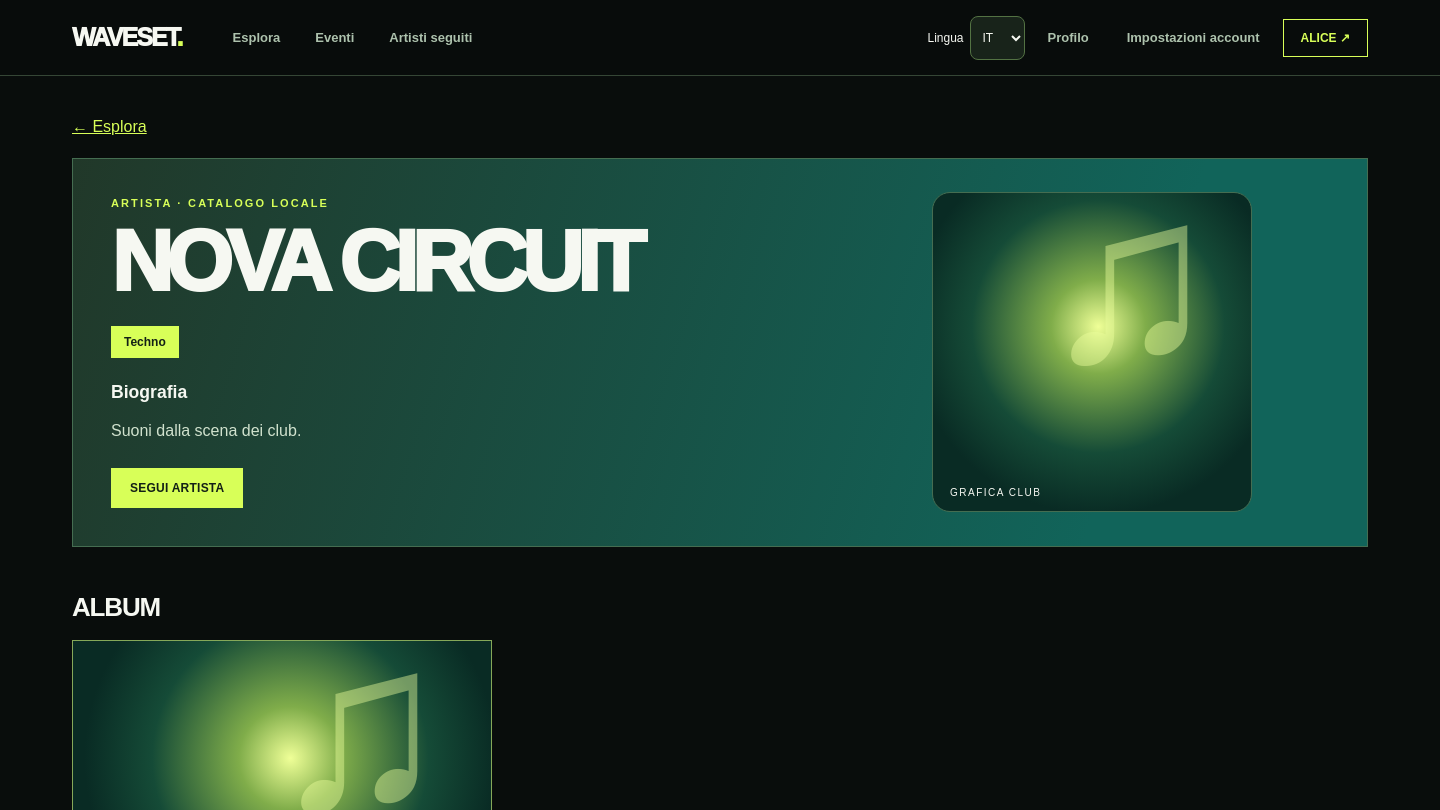
Scenario: errore 403: stato conservato e messaggio controllato IT/EN
Click the button "Segui artista" at (177, 488), box [111,468,244,508]
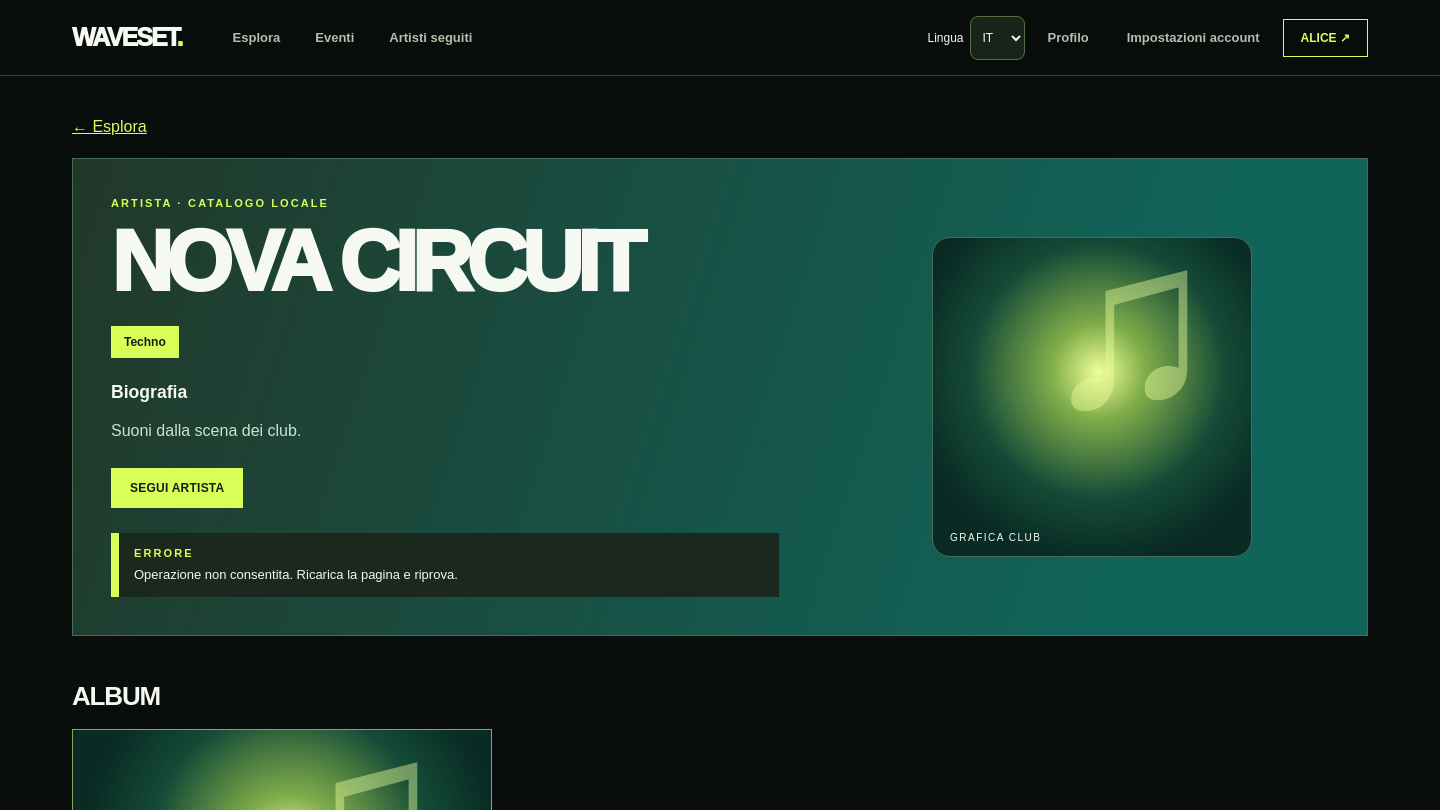
Expected: the message does not show "SQL dettagli interni", [111,533,779,597]
Select "EN" in the dropdown labelled "Lingua" at (997, 38), box [970,16,1024,60]
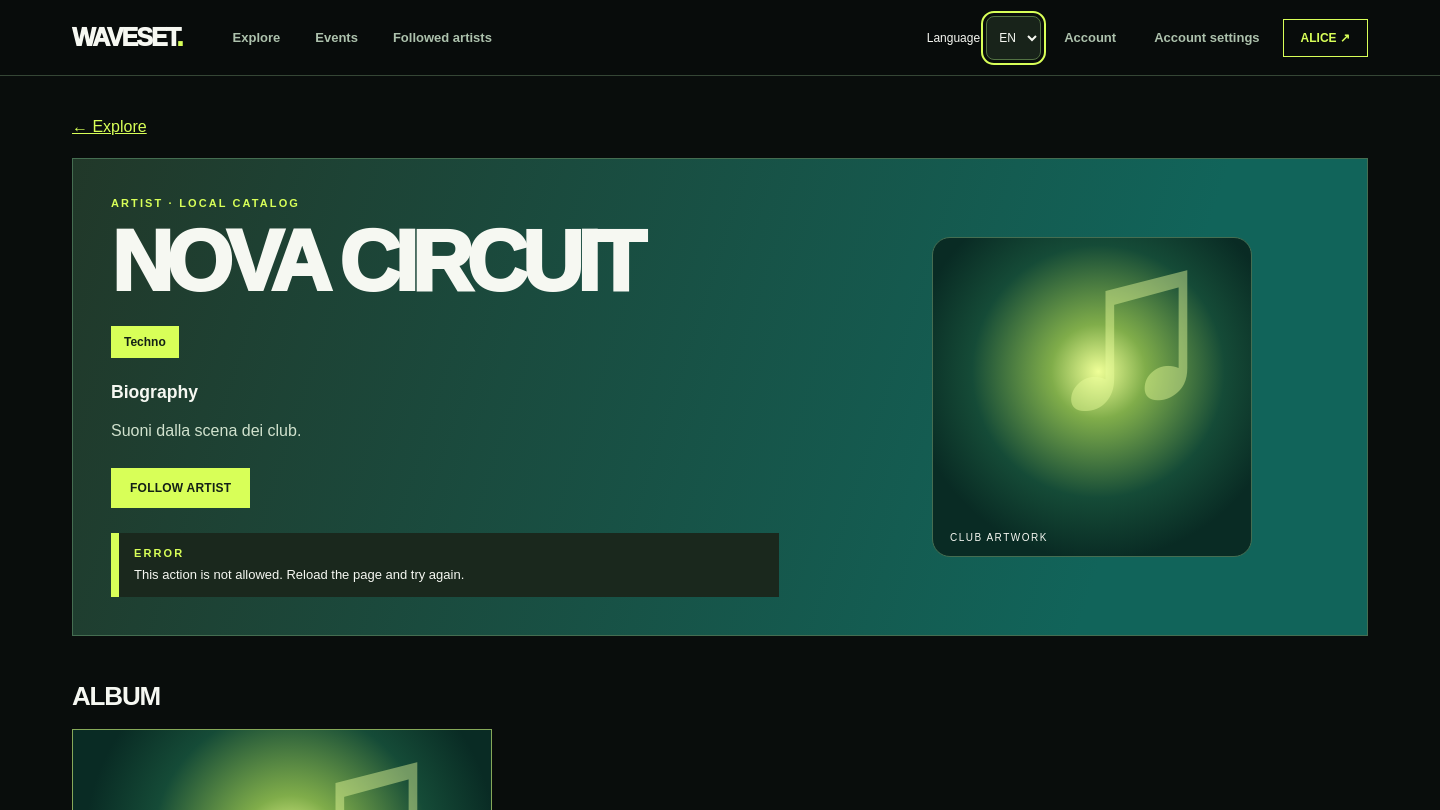
Now the button "Follow artist" is shown, box [111,468,250,508]
Now the message shows "This action is not allowed.", box [134,567,464,582]
